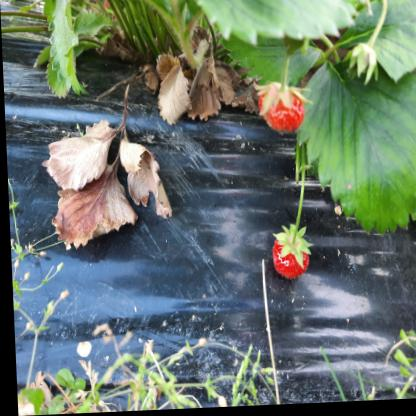ripe: (257, 84, 305, 131), (271, 234, 311, 282)
